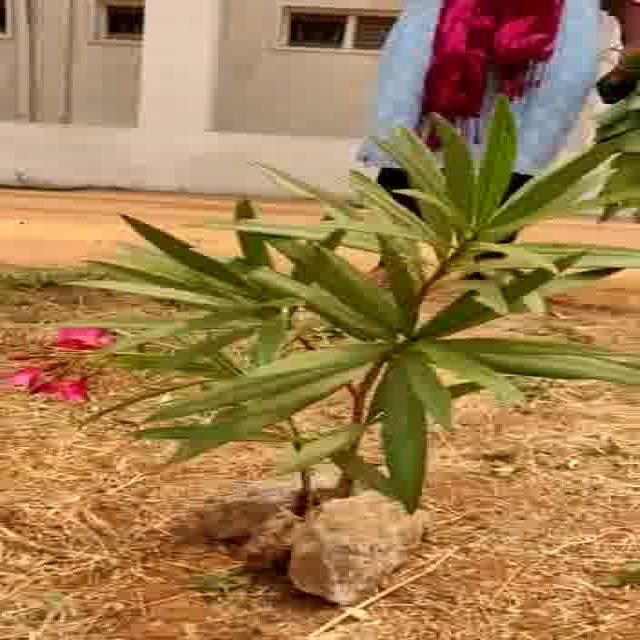OLEANDER: (4, 103, 640, 505)
